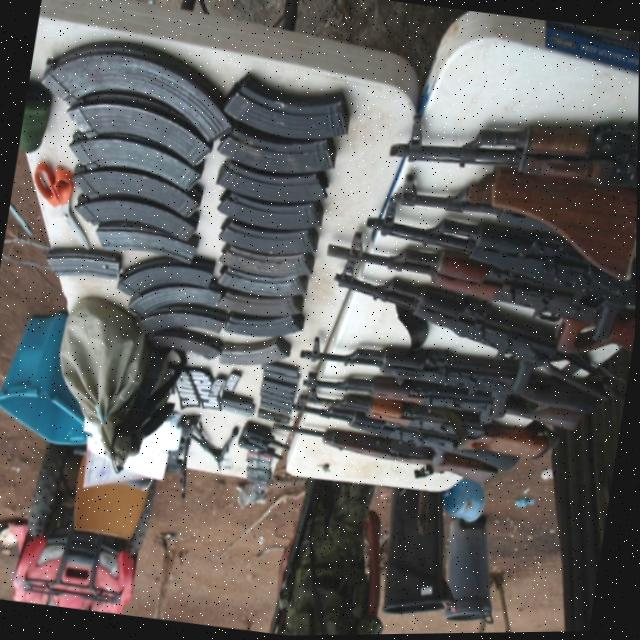firearm: (314, 237, 637, 369), (360, 200, 638, 308), (389, 94, 639, 199), (298, 333, 599, 416), (392, 163, 638, 251), (291, 397, 554, 474), (269, 424, 504, 490)
